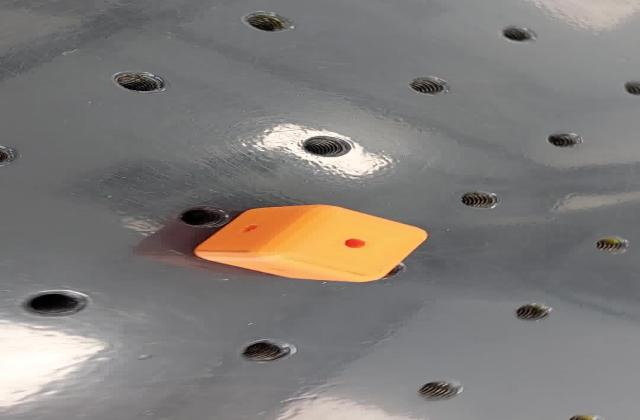cube: (185, 202, 430, 284)
